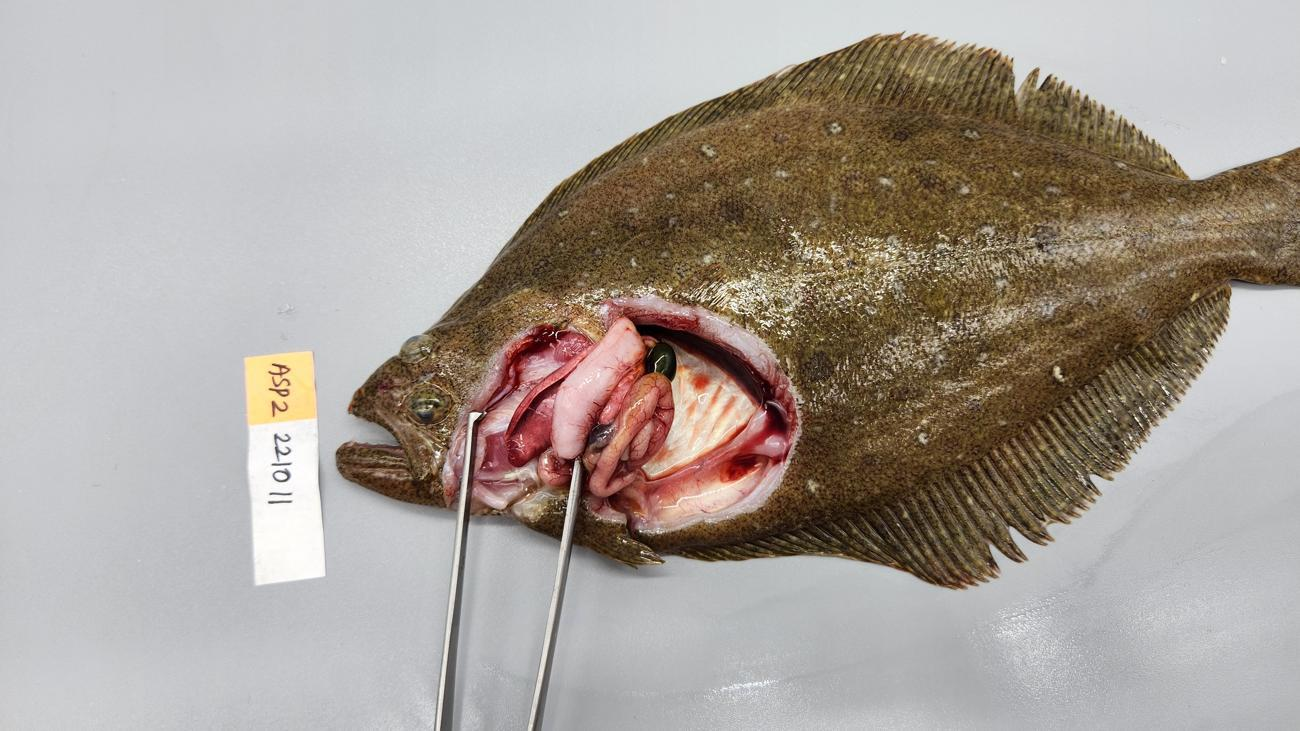SPINH: (627, 407, 673, 467)
SPINI: (611, 372, 674, 432)
SPSPE: (587, 422, 616, 451)
